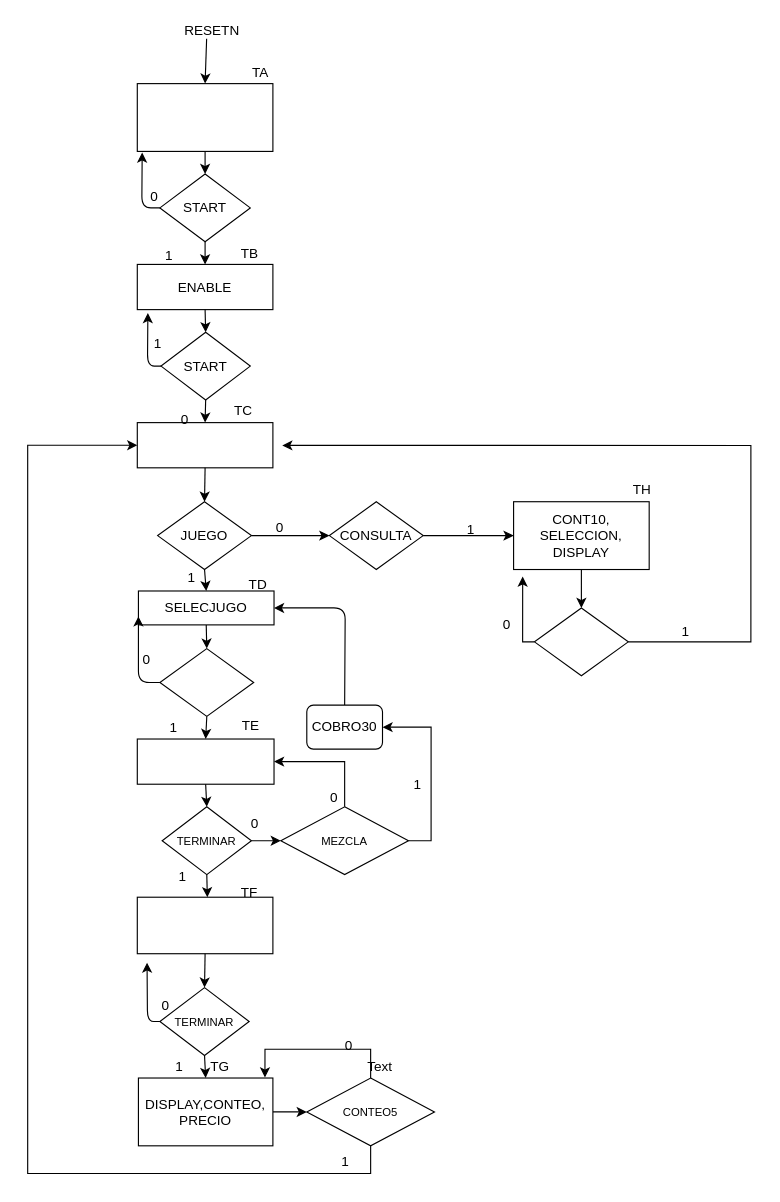
This 780x1202 diagram has some shape labels left out. Here are the shapes that lost their labels. From the top down, the box of each, then its label:
(136, 82, 273, 151): RESET
(136, 421, 273, 468): SELECCION
(533, 607, 628, 676): FIN10
(159, 647, 254, 716): BOTONJUGOS
(136, 738, 274, 784): DISPLAY
(136, 896, 273, 954): DISPLAY,SELECCION
